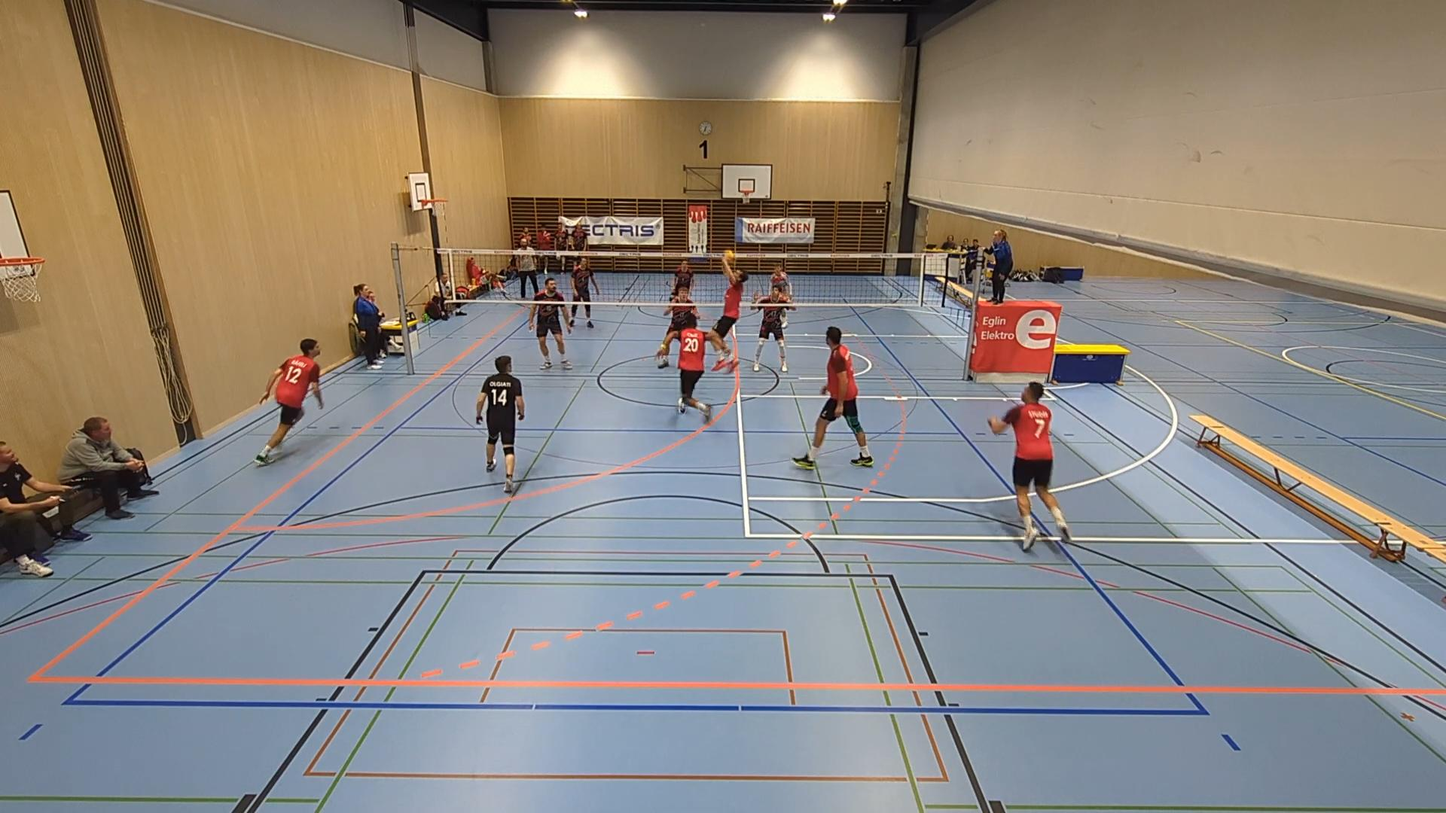Player: (989, 382, 1069, 550), (793, 326, 873, 469), (255, 339, 324, 465), (476, 357, 524, 492), (529, 277, 571, 370), (752, 285, 795, 372), (678, 314, 711, 422), (656, 288, 700, 367), (569, 257, 600, 327), (672, 260, 693, 296), (770, 264, 791, 299)
Set: (704, 253, 752, 357)
ball: (721, 248, 735, 261)
